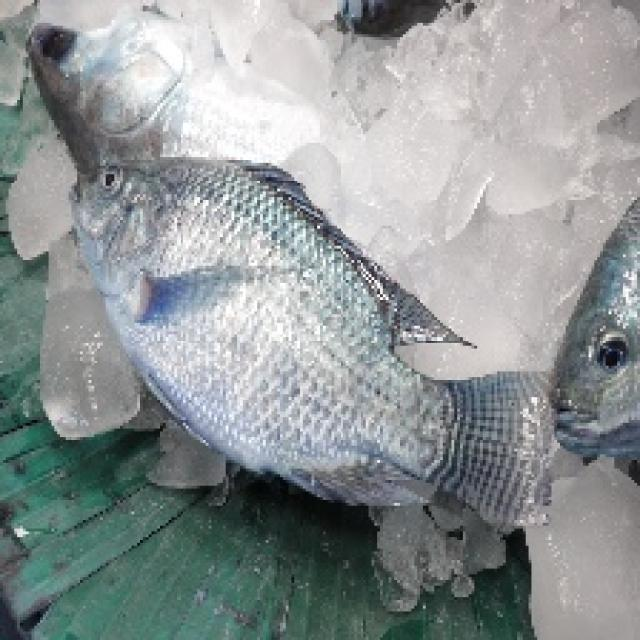Fresh: (64, 148, 412, 437), (582, 311, 640, 384)
